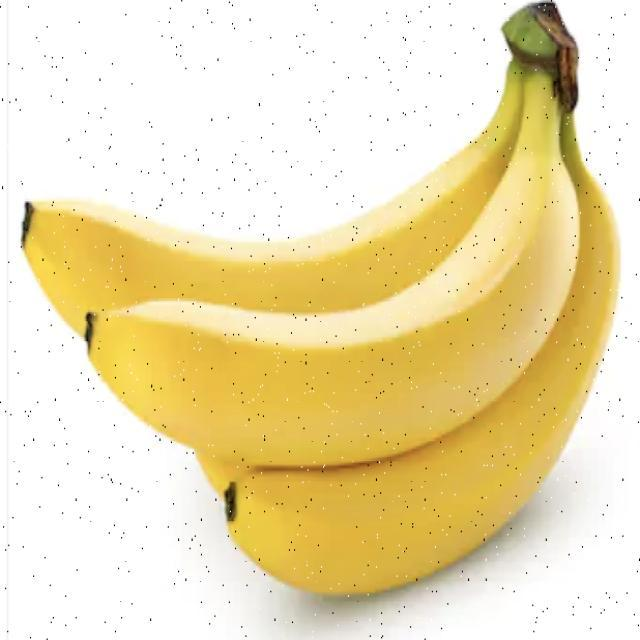Banana: (20, 1, 621, 597)
